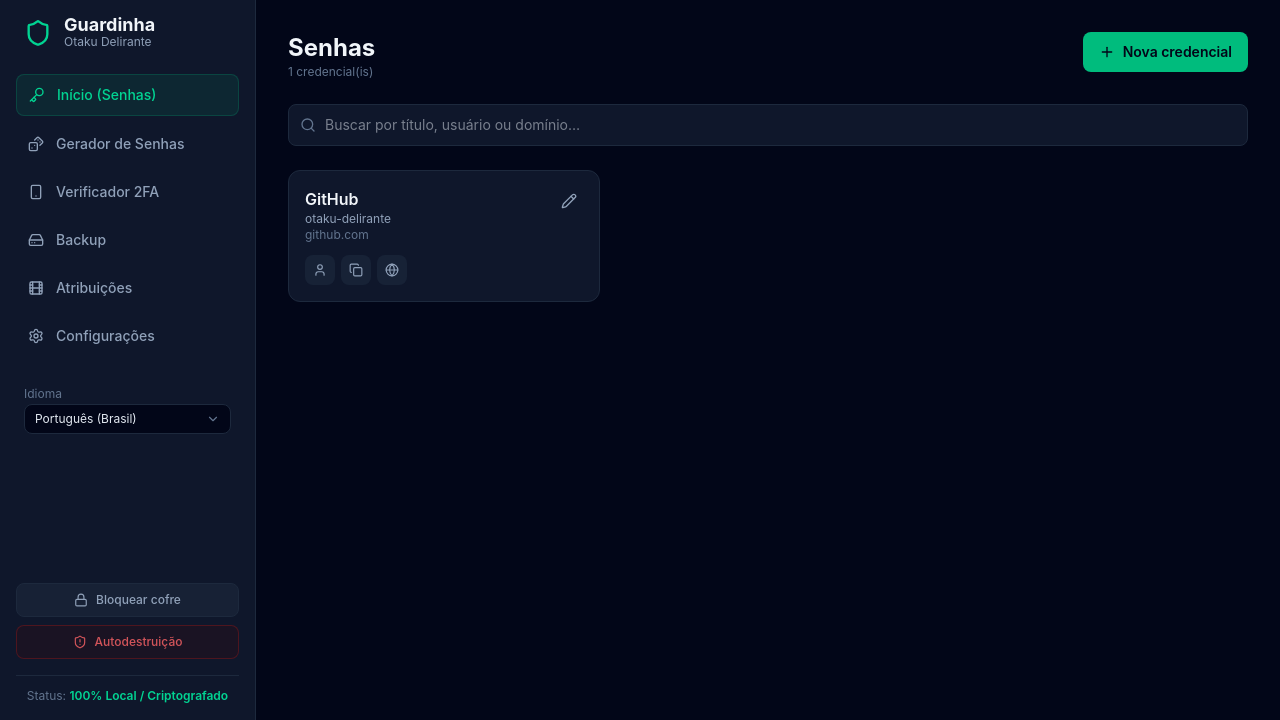
Test: App › exibe o aviso da tela quando uma credencial é copiada
The width and height of the screenshot is (1280, 720).
Expected: the text "GitHub" is shown, [305, 189, 359, 209]
Click the button titled "Copiar usuário": (320, 270) [305, 255, 335, 285]
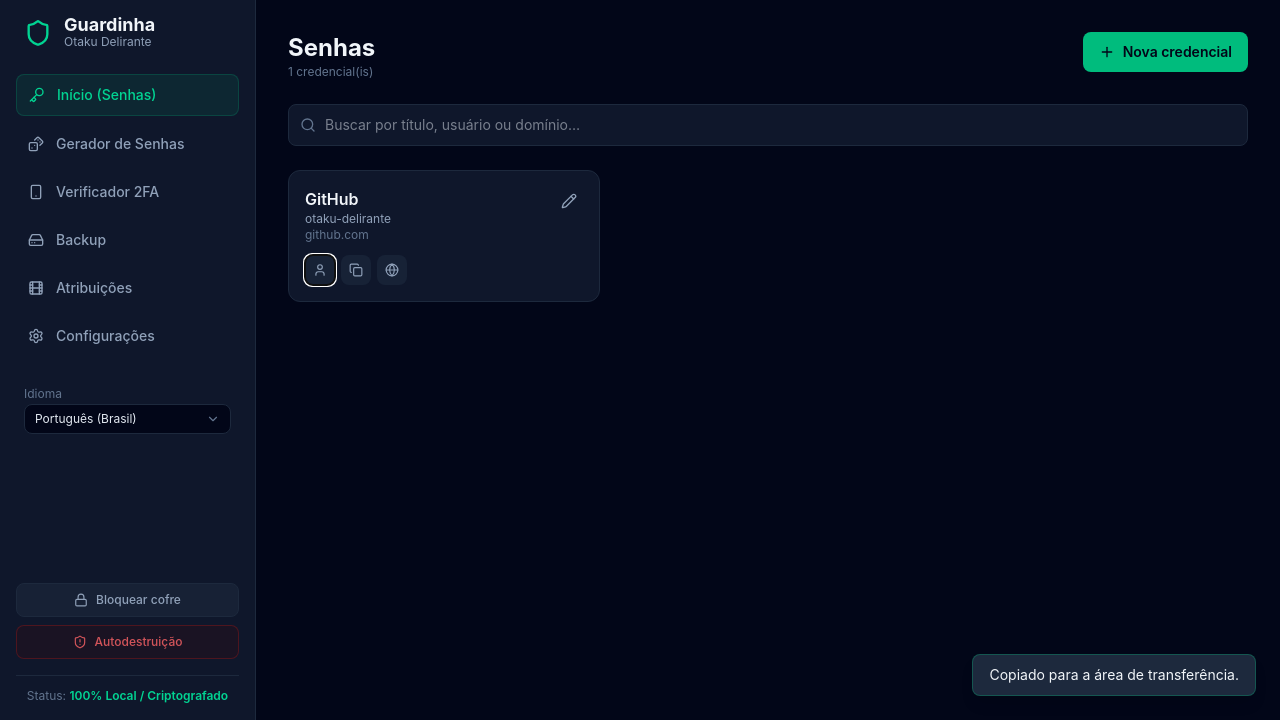
Expected: the text "Copiado para a área de transferência." is shown, [972, 654, 1256, 696]
